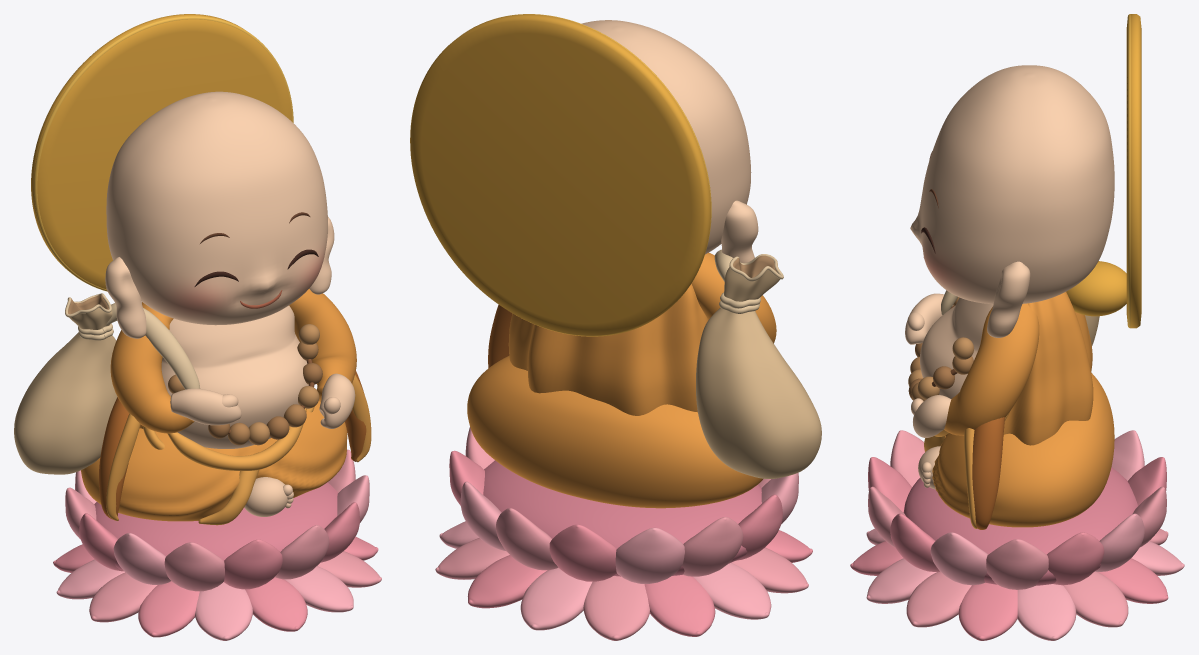
The model's file is chibi-di-lac.glb.
The picture shows the model from 3 angles, left to right: view 1: azimuth 30°, elevation 25°; view 2: azimuth 150°, elevation 25°; view 3: azimuth 270°, elevation 25°; orthographic projection. The views are drawn at different scales.
Parts seen in each view (by area): view 1: Maitreya | Chibi figurine; view 2: Maitreya | Chibi figurine; view 3: Maitreya | Chibi figurine.
Boxes of the visible parts, x1,y1,x2,y2 form: Maitreya | Chibi figurine: [14, 14, 381, 640]; Maitreya | Chibi figurine: [410, 14, 821, 640]; Maitreya | Chibi figurine: [850, 14, 1184, 640].
Size of the model in its own units: 2.75 by 4.17 by 2.32.
